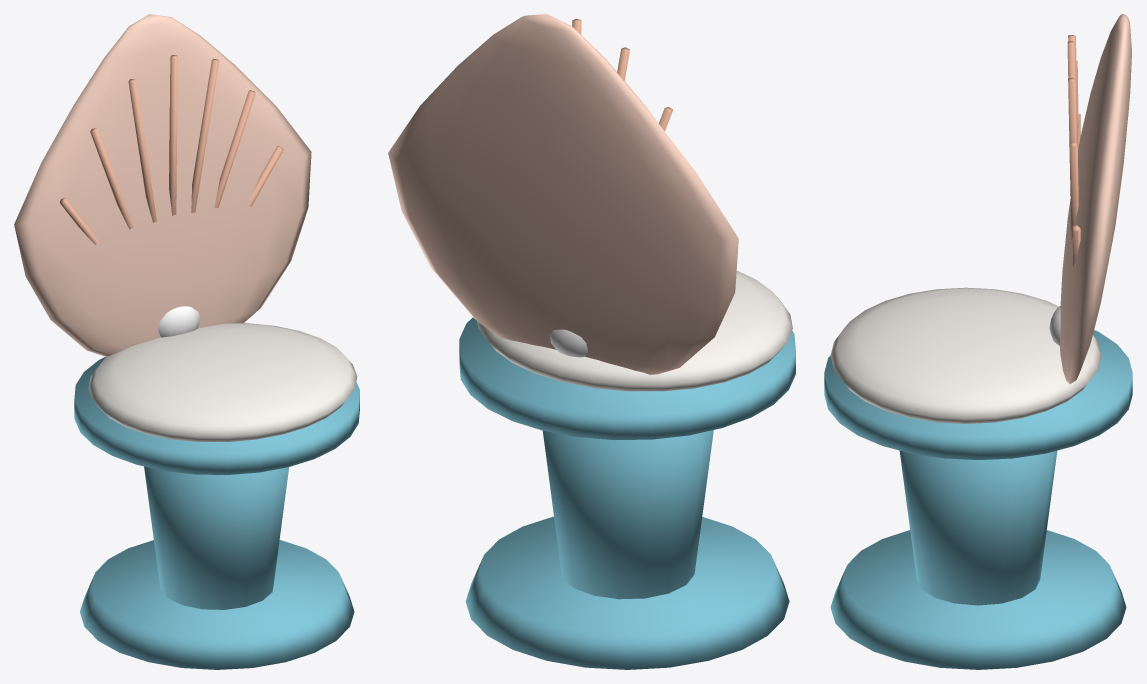
The model's file is shell-chair.glb.
3 renders of one model, left to right at view 1: azimuth 30°, elevation 25°; view 2: azimuth 150°, elevation 25°; view 3: azimuth 270°, elevation 25°, orthographic. The views are drawn at different scales.
Parts seen in each view (by area): view 1: chair; view 2: chair; view 3: chair.
Boxes of the visible parts, x1,y1,x2,y2 form: chair: (14,14,359,669); chair: (388,14,795,669); chair: (824,14,1132,669).
Size of the model in its own units: 0.6 by 1.06 by 0.5.
